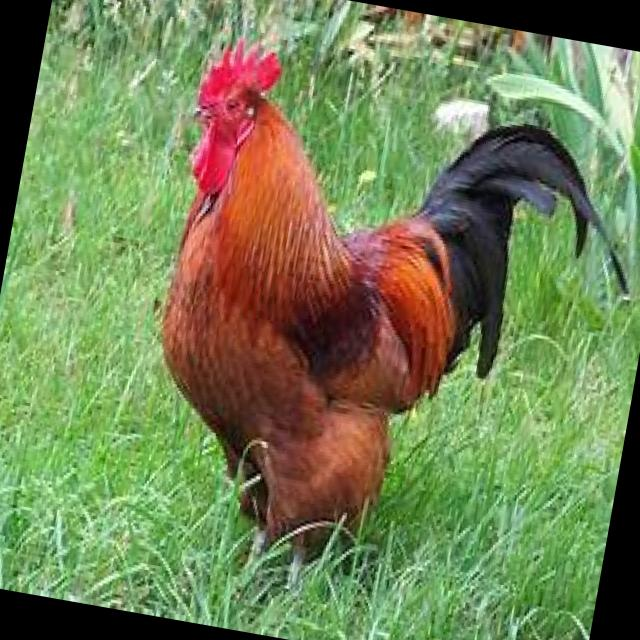animal: (119, 33, 578, 619)
